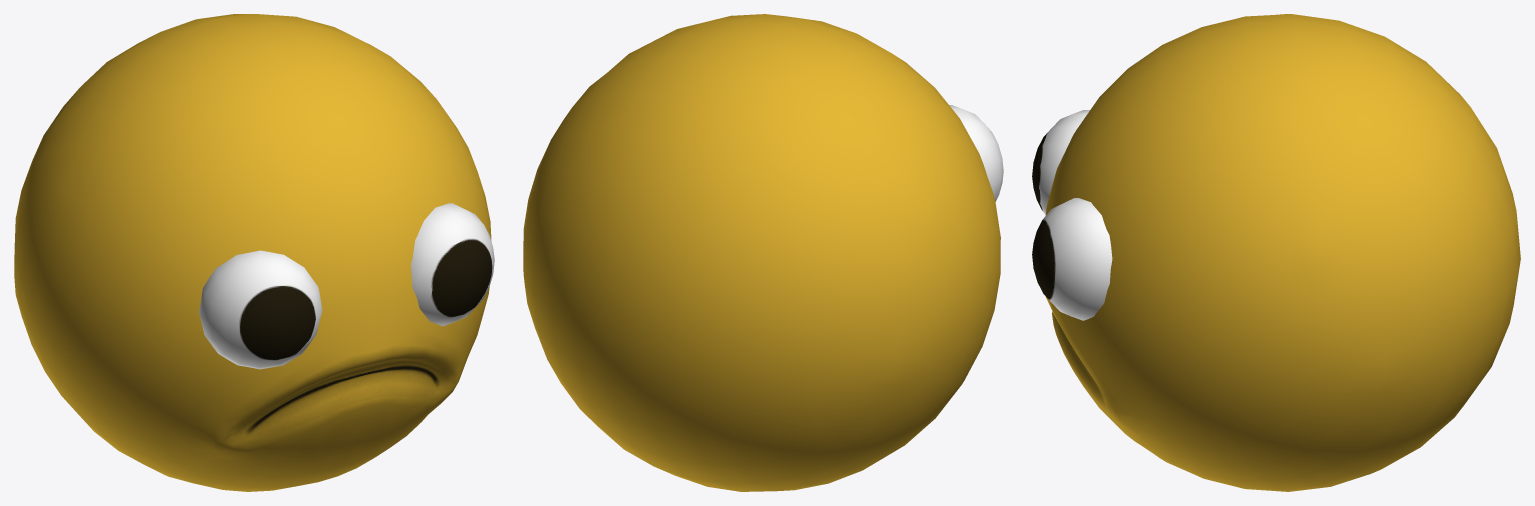
File: emoji_sad.fbx
3 views of the same model, side by side, from view 1: azimuth 30°, elevation 25°; view 2: azimuth 150°, elevation 25°; view 3: azimuth 270°, elevation 25° (orthographic).
Visible parts, largest first — view 1: emoji_sad; view 2: emoji_sad; view 3: emoji_sad.
Part boxes in pixels (box(x1,y1,x2,y2)): emoji_sad: box(14, 14, 494, 491); emoji_sad: box(523, 14, 1003, 491); emoji_sad: box(1032, 14, 1520, 491).
Size of the model in its own units: 0.9912 by 0.9895 by 1.01.
Materials: 1 (1 with a texture image).
